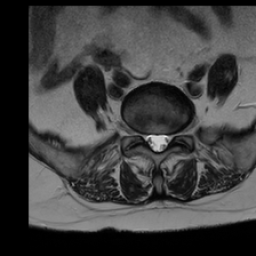CCS_normal: (154, 125, 161, 158)
LFS_severe_stenosis: (170, 125, 179, 145)
LLS_normal: (161, 128, 170, 154)
RFS_severe_stenosis: (138, 124, 146, 146)
RLS_normal: (146, 126, 154, 154)
